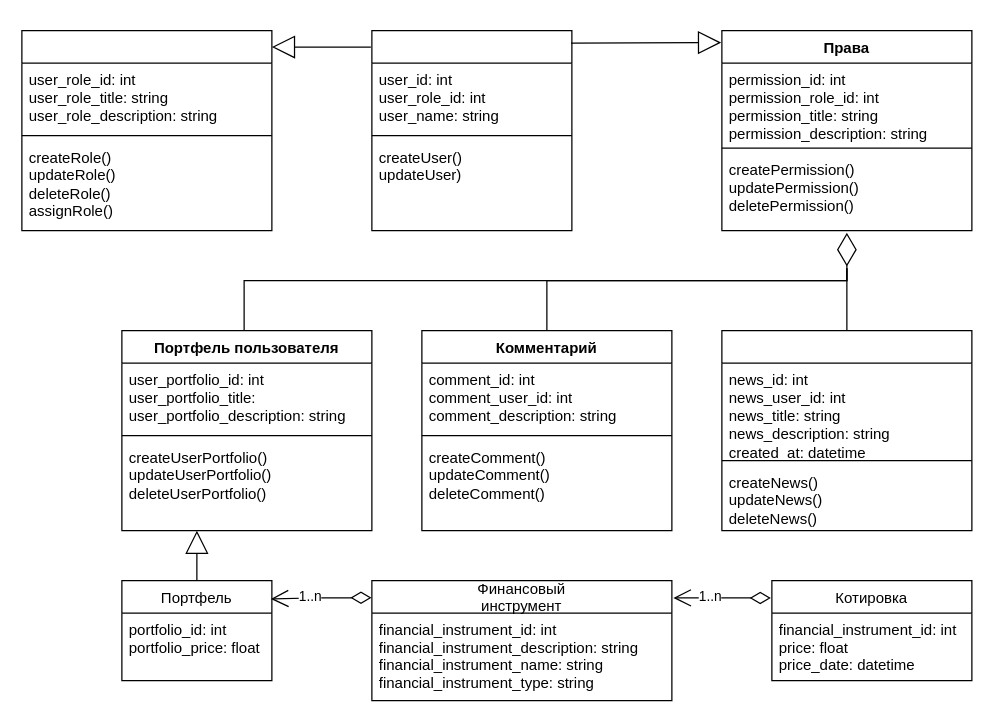
This 994x726 diagram has some shape labels left out. The shapes that lost their labels are listed below. From the top down, each one's box as (x1, y1, x2, y2) in pixels, then its label:
(21, 29, 272, 231): Роль
(371, 29, 572, 231): Пользователь
(721, 329, 972, 531): Новость
